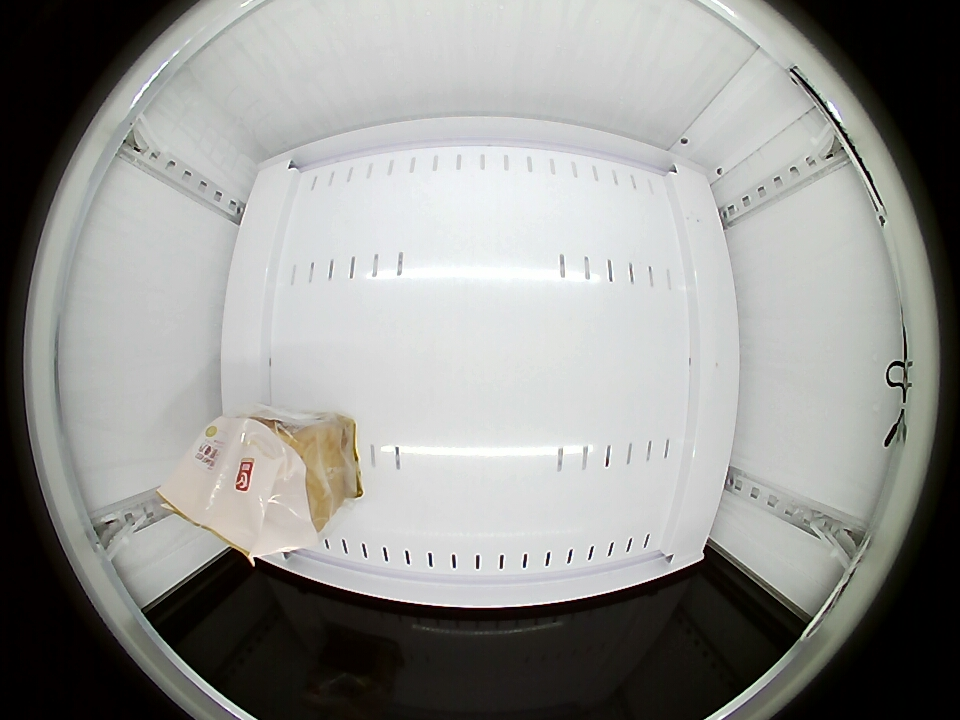zaocanmofang: (163, 417, 338, 559)
